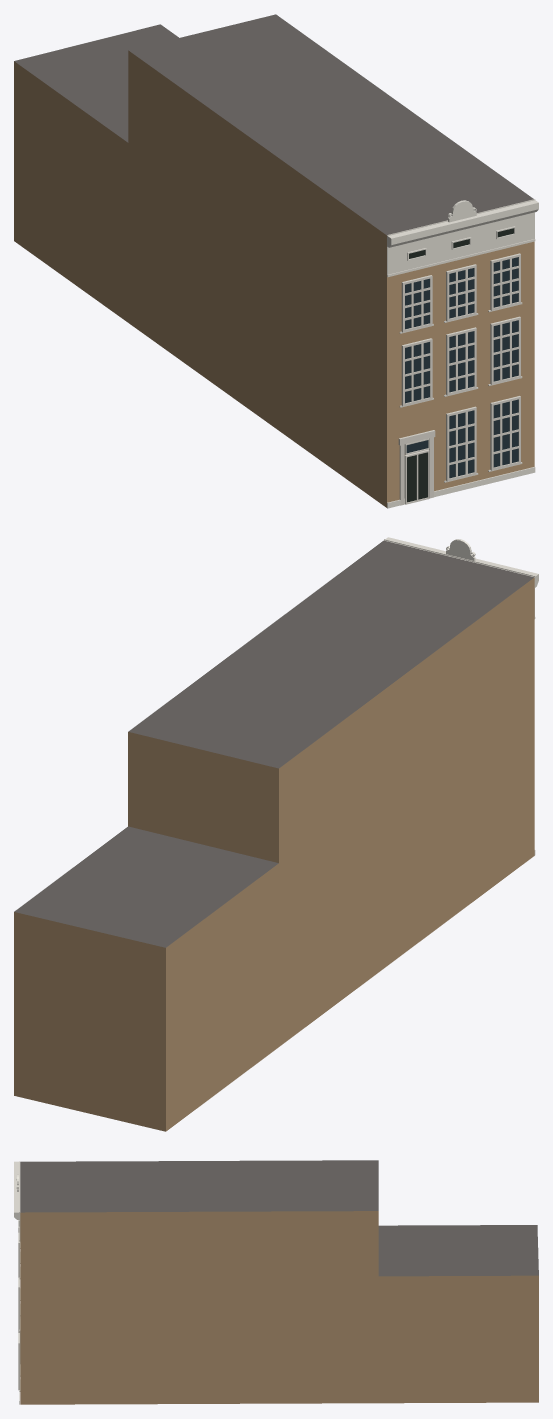
The picture shows the model from 3 angles, top to bottom: view 1: azimuth 30°, elevation 25°; view 2: azimuth 150°, elevation 25°; view 3: azimuth 270°, elevation 25°; orthographic projection. The views are drawn at different scales.
Parts seen in each view (by area): view 1: spec-0363100012169008; view 2: spec-0363100012169008; view 3: spec-0363100012169008.
Part boxes in pixels (<box>): spec-0363100012169008: <box>14,14,538,508</box>; spec-0363100012169008: <box>14,537,538,1131</box>; spec-0363100012169008: <box>14,1160,538,1404</box>.
Size of the model in its own units: 8.96 by 16.15 by 37.57.
